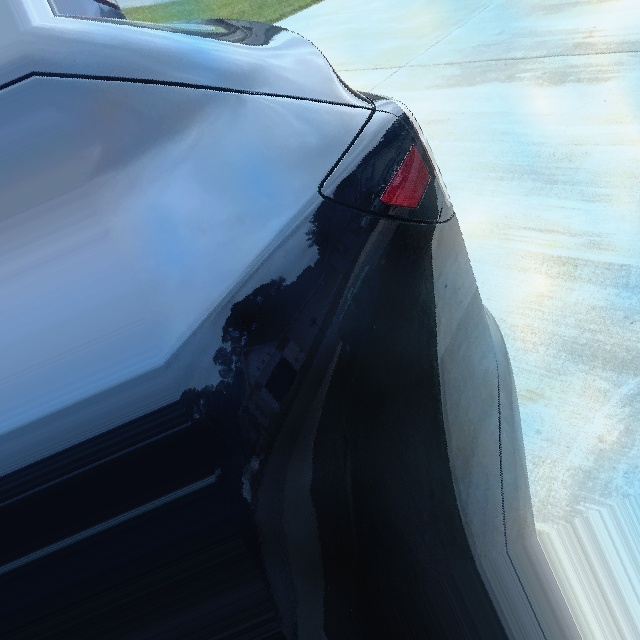reflector: (365, 142, 440, 219)
